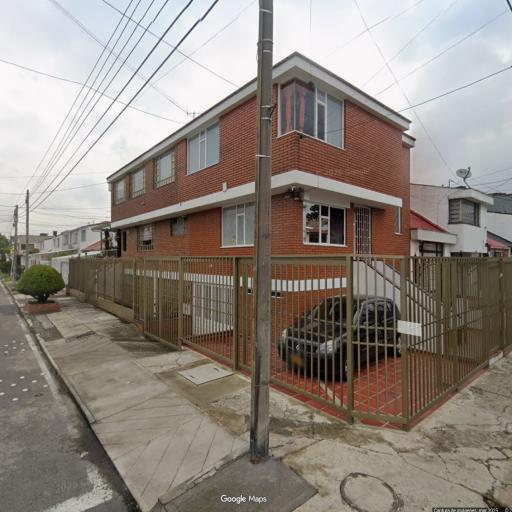Casa: (105, 51, 418, 388)
postes: (247, 1, 278, 470)
